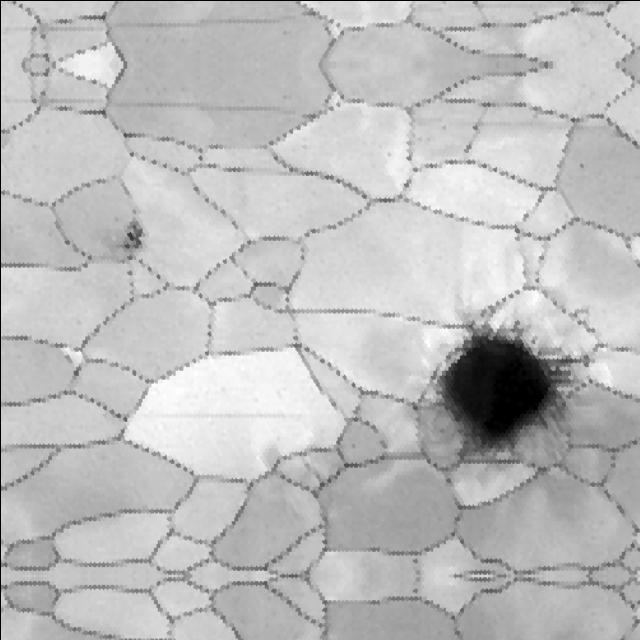good_void: (418, 313, 595, 470), (110, 208, 150, 258), (385, 149, 393, 159), (440, 122, 447, 131), (578, 162, 584, 171), (440, 0, 447, 7)
